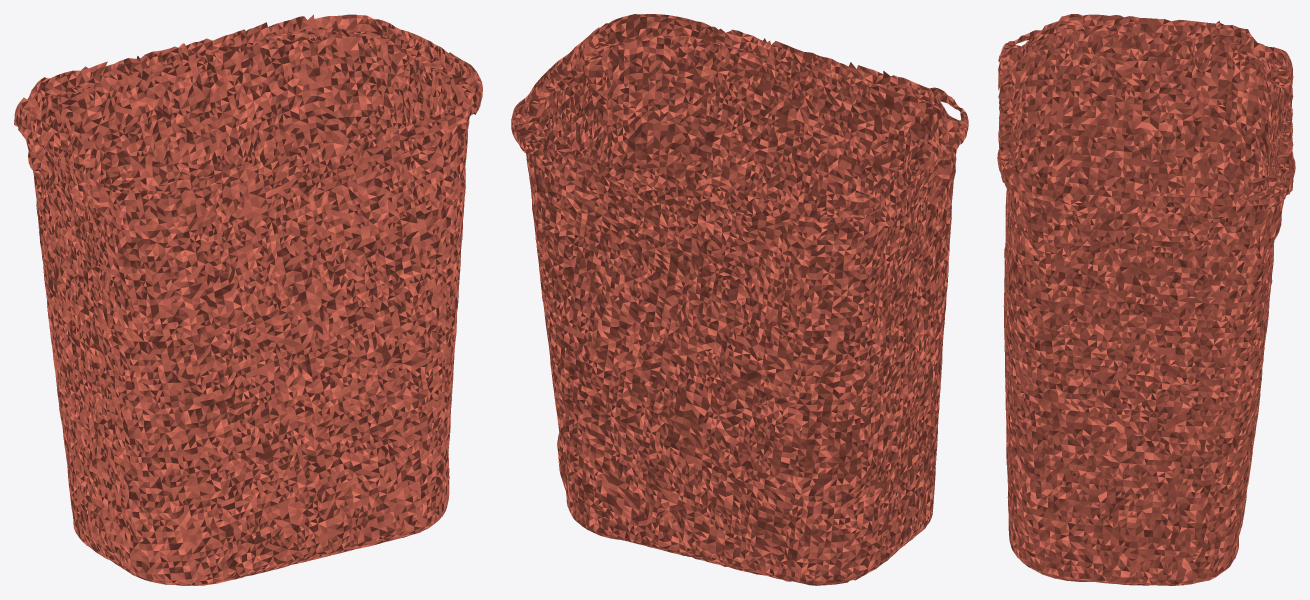
The model's file is hum_04_large_object_props.glb.
3 views of the same model, side by side, from view 1: azimuth 30°, elevation 25°; view 2: azimuth 150°, elevation 25°; view 3: azimuth 270°, elevation 25° (orthographic). The views are drawn at different scales.
Parts seen in each view (by area): view 1: o00; view 2: o00; view 3: o00.
Part boxes in pixels (x1,y1,x2,y2): o00: [14, 14, 482, 585]; o00: [511, 14, 968, 585]; o00: [997, 14, 1295, 585].
Size of the model in its own units: 0.3011 by 0.3374 by 0.2124.
